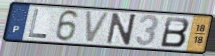3: (134, 14, 162, 48)
6: (53, 9, 81, 43)
B: (160, 16, 192, 49)
L: (27, 8, 48, 40)
N: (105, 12, 139, 46)
V: (83, 10, 112, 44)
